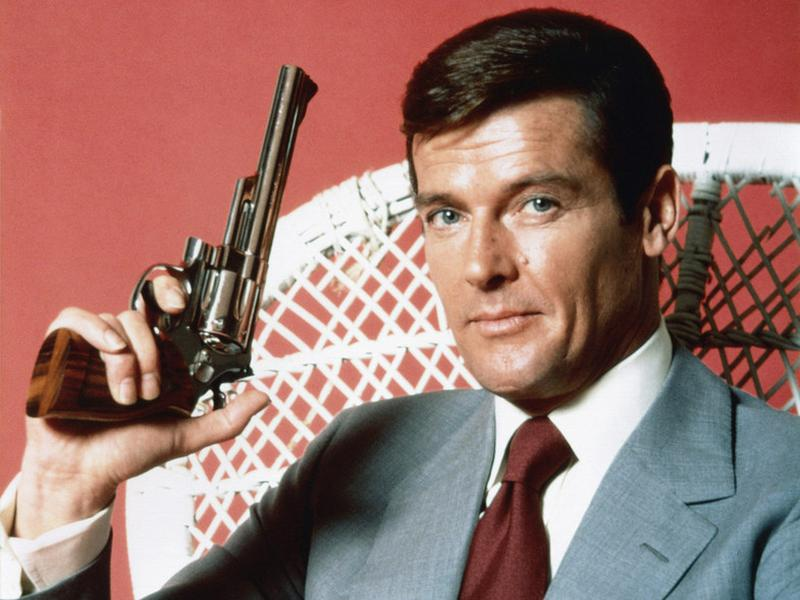Revolver: (26, 22, 323, 417)
